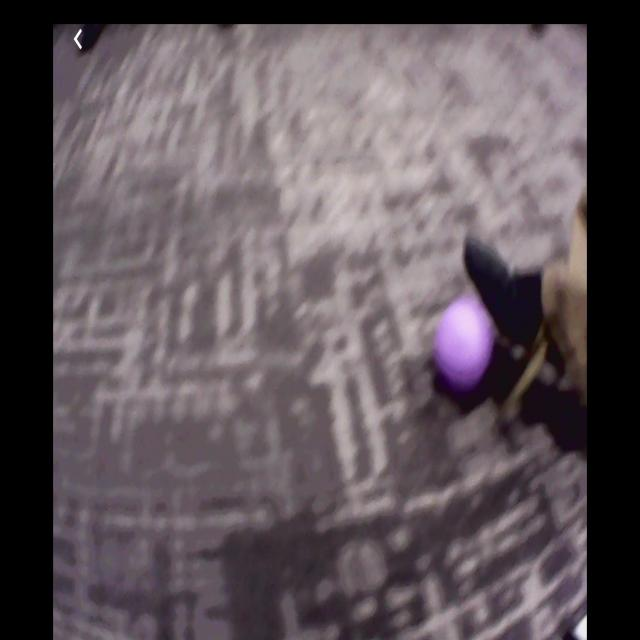ball: (437, 295, 492, 386)
